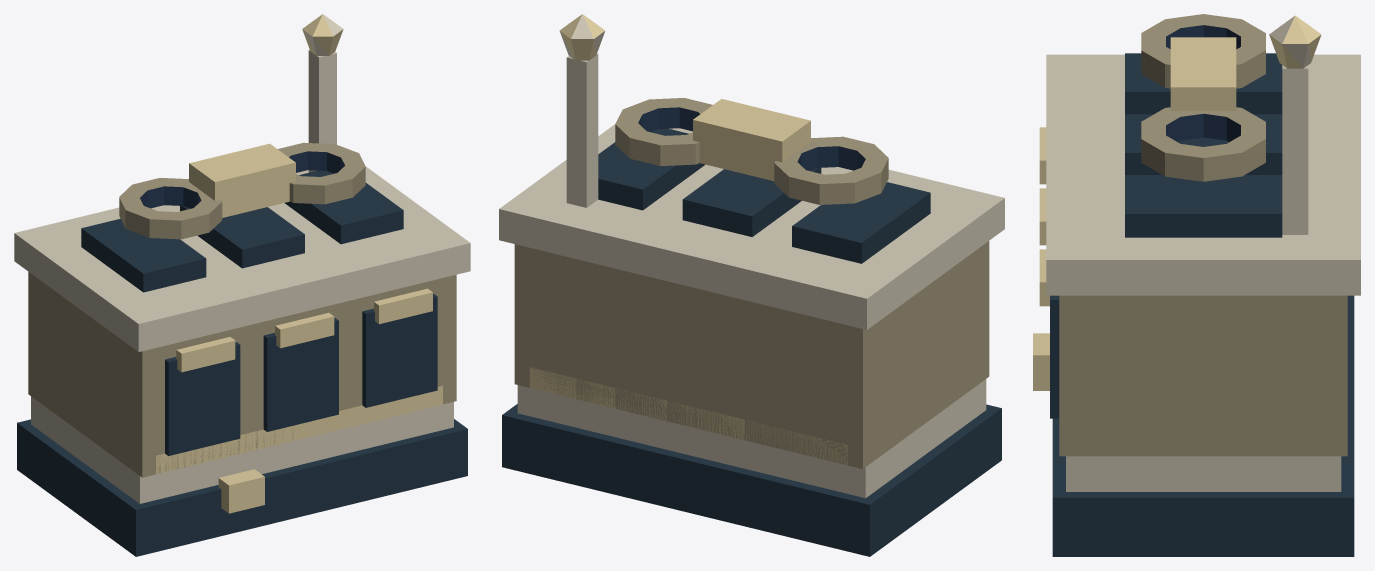
File: module-hangar.glb
3 renders of one model, left to right at view 1: azimuth 30°, elevation 25°; view 2: azimuth 150°, elevation 25°; view 3: azimuth 270°, elevation 25°, orthographic. The views are drawn at different scales.
Visible parts, largest first — view 1: 蜂巢无人机库; view 2: 蜂巢无人机库; view 3: 蜂巢无人机库.
Part boxes in pixels (x1,y1,x2,y2): 蜂巢无人机库: (14, 14, 470, 556); 蜂巢无人机库: (499, 14, 1004, 556); 蜂巢无人机库: (1033, 14, 1360, 556).
Bounding box in the file's own units: 0.37 × 0.43 × 0.25.
